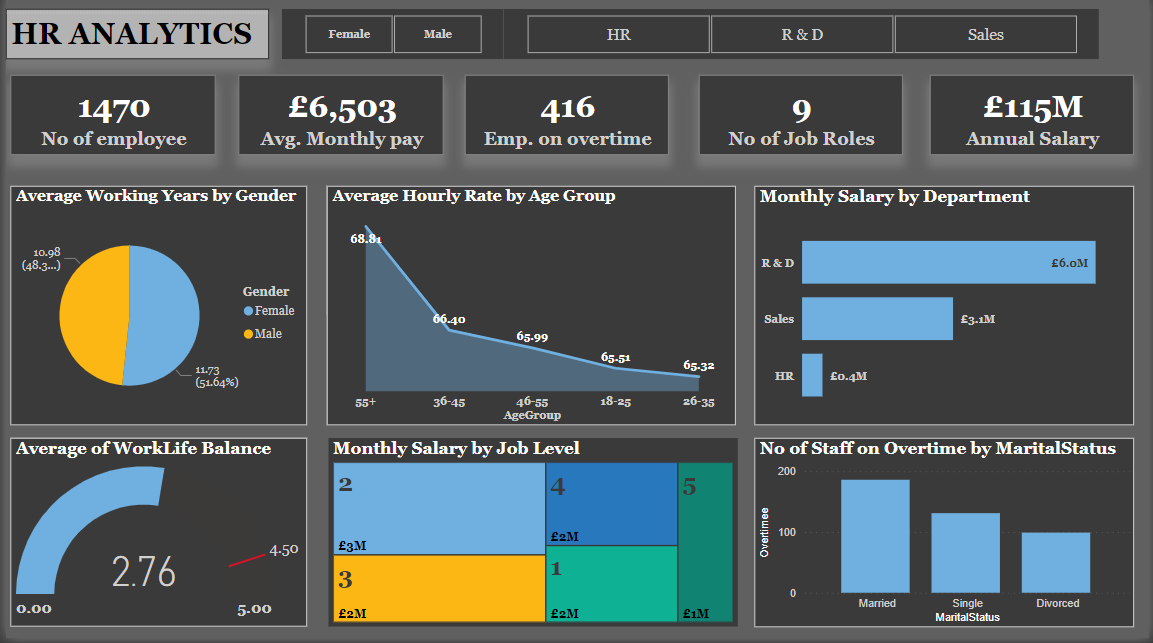

The dashboard page shown, as its layout file describes it:
{"tool":"powerbi","page":{"name":"Page 1","canvas":[1250,700],"ordinal":0},"visuals":[{"type":"textbox","box":[0,12.5,287.4,54.7],"z":0},{"type":"card","fields":{"Values":["Count(HR_Analytics.EmpID)"]},"box":[4.8,85.5,224.2,87.1],"z":1000},{"type":"card","fields":{"Values":["HR_Analytics.Average Monthly pay"]},"box":[254.8,85.5,224.2,87.1],"z":2000},{"type":"card","fields":{"Values":["HR_Analytics.oVERTIMEE"]},"box":[501.6,85.5,222.6,87.1],"z":3000},{"type":"card","fields":{"Values":["Count(HR_Analytics.JobRole)"]},"box":[758.1,85.5,222.6,87.1],"z":4000},{"type":"clusteredBarChart","title":"Monthly Salary by Department","fields":{"Category":["HR_Analytics.Department"],"Y":["Sum(HR_Analytics.MonthlyIncome)"]},"box":[817.7,206.5,414.5,261.3],"z":5000},{"type":"areaChart","title":"Average Hourly Rate by Age Group","fields":{"Category":["HR_Analytics.AgeGroup"],"Y":["Avg(HR_Analytics.HourlyRate)"]},"box":[351.6,206.5,446.8,261.3],"z":6000},{"type":"clusteredColumnChart","title":"No of Staff on Overtime by MaritalStatus","fields":{"Y":["HR_Analytics.Overtimee"],"Category":["HR_Analytics.MaritalStatus"]},"box":[817.7,482.3,414.5,206.5],"z":7000},{"type":"pieChart","title":"Average Working Years by Gender","fields":{"Y":["Avg(HR_Analytics.TotalWorkingYears)"],"Category":["HR_Analytics.Gender"]},"box":[4.8,206.5,324.2,261.3],"z":8000},{"type":"slicer","fields":{"Values":["HR_Analytics.Department"]},"box":[543.5,12.9,650,54.8],"z":9000},{"type":"slicer","fields":{"Values":["HR_Analytics.Gender"]},"box":[301.6,12.9,241.9,54.8],"z":10000},{"type":"card","fields":{"Values":["HR_Analytics.Annual Salary"]},"box":[1009.7,85.5,222.6,87.1],"z":11000},{"type":"gauge","title":"Average of WorkLife Balance","fields":{"Y":["Avg(HR_Analytics.WorkLifeBalance)"]},"box":[5,482,324,206],"z":12000},{"type":"treemap","title":"Monthly Salary by Job Level","fields":{"Group":["HR_Analytics.JobLevel"],"Values":["Sum(HR_Analytics.MonthlyIncome)"]},"box":[352,482,447,206],"z":13000}]}

Visuals, with their boxes in screenshot pixels (x1, y1, x2, y2), scaled from the page's 1250x700 canvas onto the 1153x643 screenshot:
textbox: (left=0, top=11, right=265, bottom=62)
card - Count(HR_Analytics.EmpID): (left=4, top=79, right=211, bottom=159)
card - HR_Analytics.Average Monthly pay: (left=235, top=79, right=442, bottom=159)
card - HR_Analytics.oVERTIMEE: (left=463, top=79, right=668, bottom=159)
card - Count(HR_Analytics.JobRole): (left=699, top=79, right=905, bottom=159)
"Monthly Salary by Department" clusteredBarChart: (left=754, top=190, right=1137, bottom=430)
"Average Hourly Rate by Age Group" areaChart: (left=324, top=190, right=736, bottom=430)
"No of Staff on Overtime by MaritalStatus" clusteredColumnChart: (left=754, top=443, right=1137, bottom=633)
"Average Working Years by Gender" pieChart: (left=4, top=190, right=303, bottom=430)
slicer - HR_Analytics.Department: (left=501, top=12, right=1101, bottom=62)
slicer - HR_Analytics.Gender: (left=278, top=12, right=501, bottom=62)
card - HR_Analytics.Annual Salary: (left=931, top=79, right=1137, bottom=159)
"Average of WorkLife Balance" gauge: (left=5, top=443, right=303, bottom=632)
"Monthly Salary by Job Level" treemap: (left=325, top=443, right=737, bottom=632)
